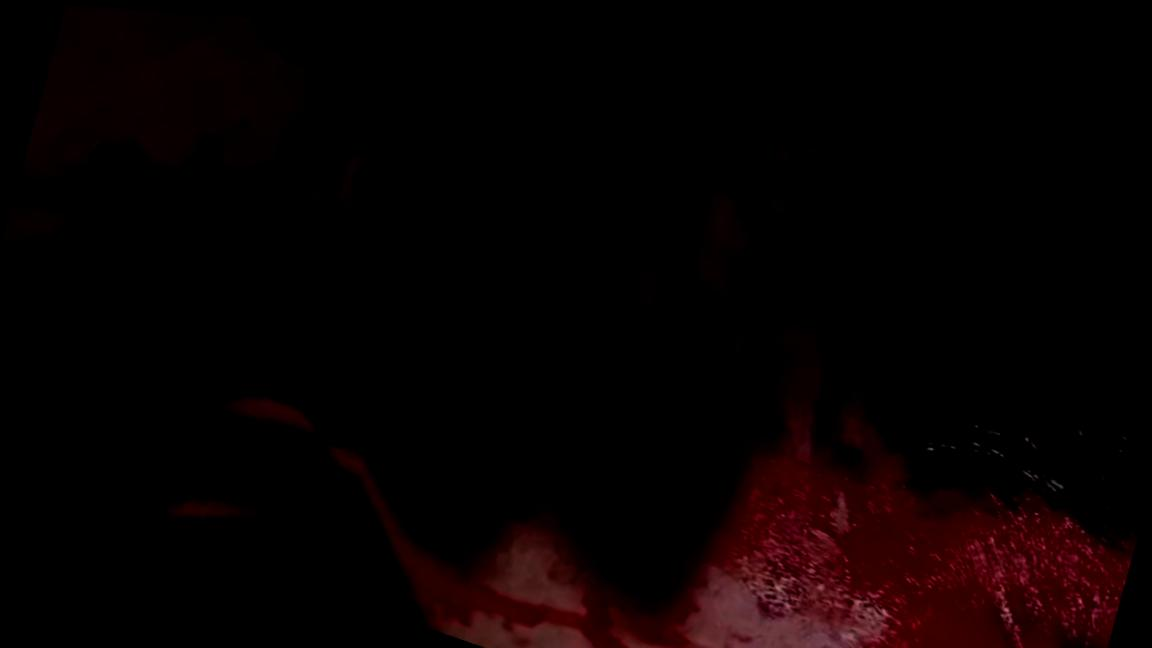Fire: (0, 15, 1152, 648)
